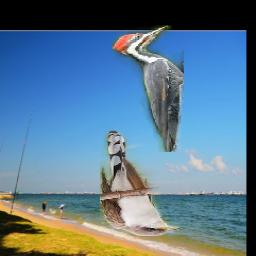Cuckoo: (101, 130, 181, 236)
Woodpecker: (114, 26, 185, 153)
